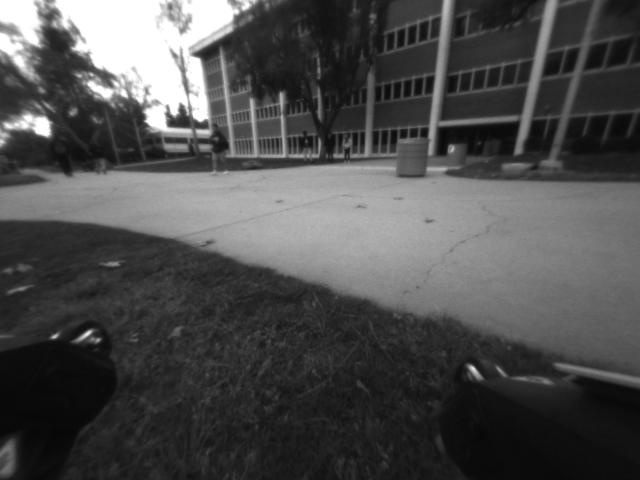trashcan: (396, 133, 432, 183), (446, 135, 466, 171)
